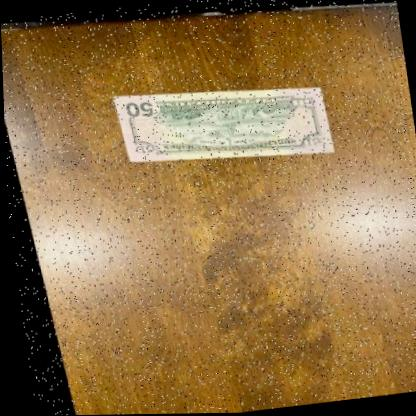dollar_back: (107, 70, 330, 173)
